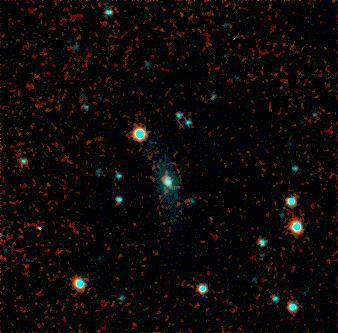star: (196, 197, 226, 227)
